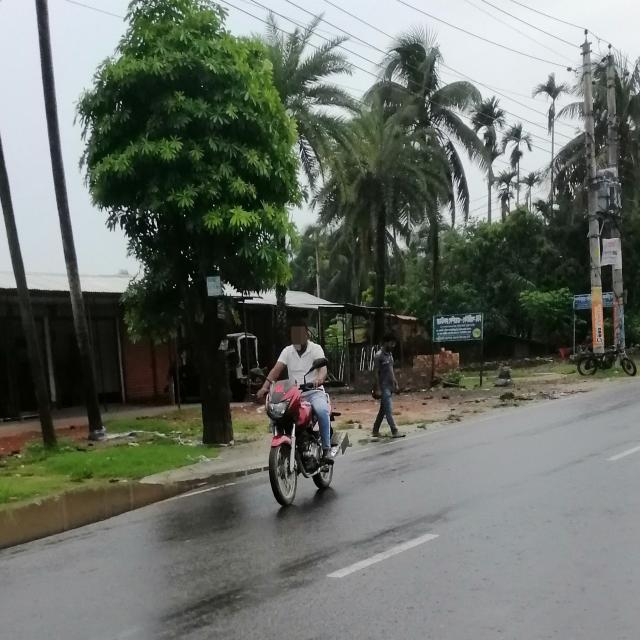Motorbike: (248, 357, 354, 511)
